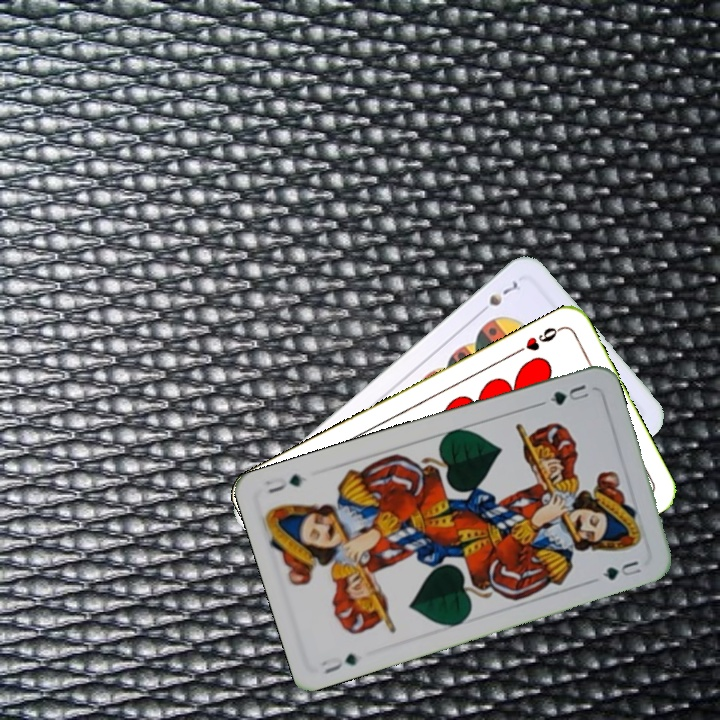GU: (545, 380, 592, 408), (315, 649, 359, 677)
H9: (510, 322, 565, 357)
S7: (473, 278, 524, 318)
